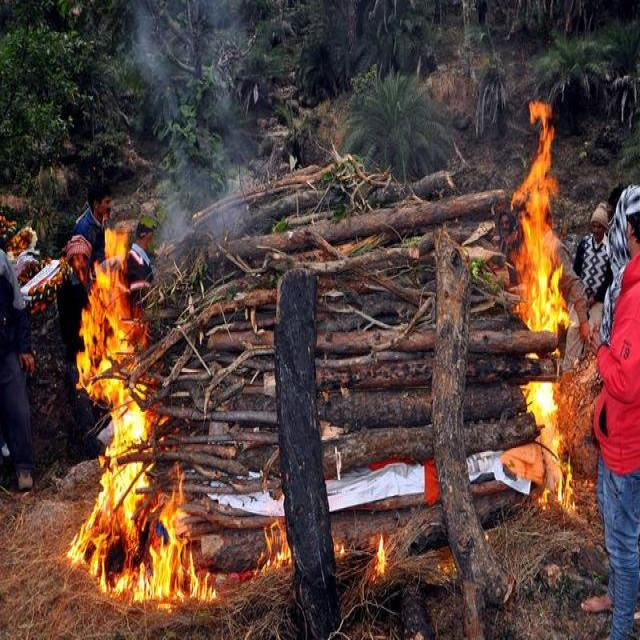fire: (67, 227, 219, 613), (511, 101, 577, 335), (498, 333, 578, 515), (220, 515, 291, 605)
